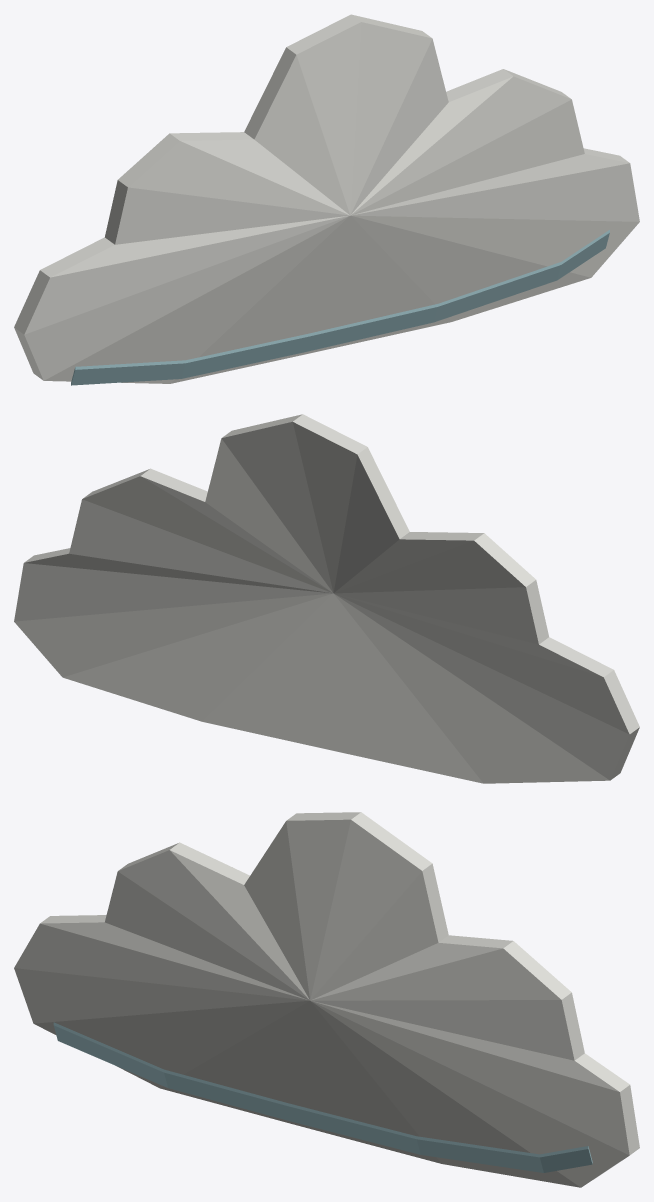
3 views of the same model, one above another, from view 1: azimuth 30°, elevation 25°; view 2: azimuth 150°, elevation 25°; view 3: azimuth 330°, elevation 25° (orthographic).
Visible parts, largest first — view 1: 纸云_2.001; view 2: 纸云_2.001; view 3: 纸云_2.001.
Part boxes in pixels (x1,y1,x2,y2): 纸云_2.001: [14, 14, 639, 385]; 纸云_2.001: [14, 414, 639, 783]; 纸云_2.001: [14, 812, 639, 1187].
Bounding box in the file's own units: 1.9 × 0.95 × 0.135.
